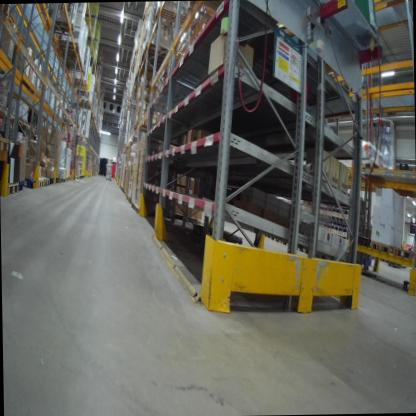pallet: (2, 1, 229, 196), (152, 4, 194, 30), (139, 45, 166, 67), (49, 39, 81, 57), (367, 239, 396, 257), (135, 203, 166, 219), (351, 156, 381, 171), (142, 40, 170, 56), (49, 20, 76, 35), (394, 246, 414, 260), (0, 136, 10, 154), (22, 174, 34, 187), (16, 178, 24, 192), (129, 199, 136, 213), (36, 177, 44, 188), (43, 176, 50, 186), (53, 177, 59, 184), (49, 176, 54, 184), (58, 176, 62, 183)
